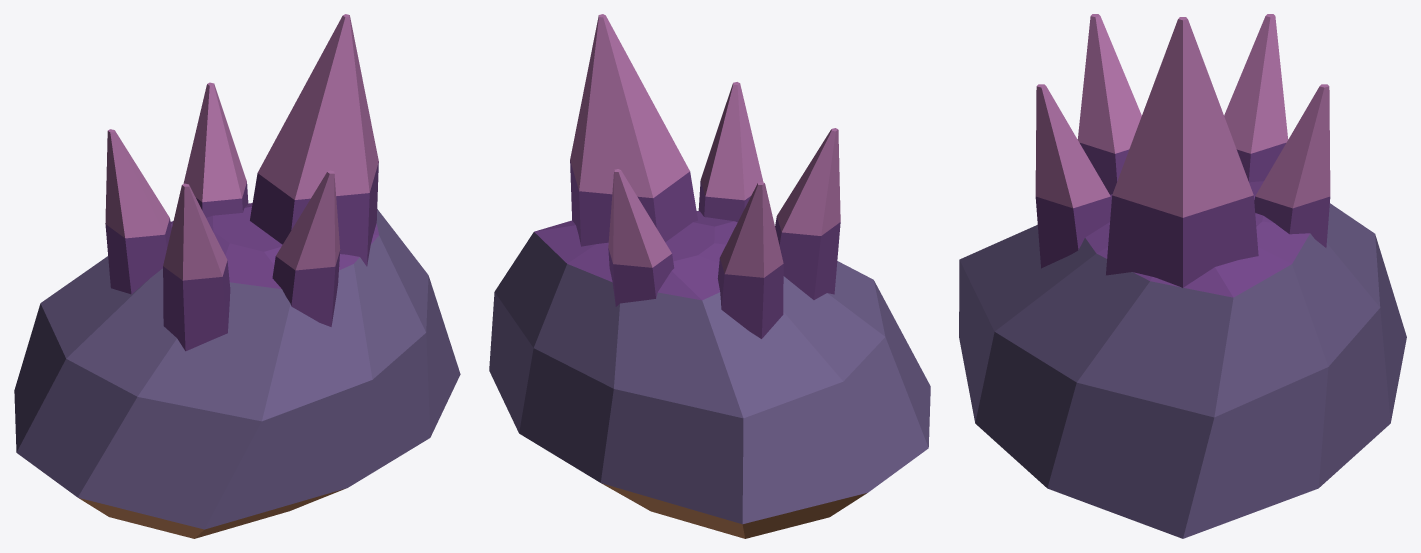
File: nebula-flora.glb
3 renders of one model, left to right at view 1: azimuth 30°, elevation 25°; view 2: azimuth 150°, elevation 25°; view 3: azimuth 270°, elevation 25°, orthographic. The views are drawn at different scales.
Visible parts, largest first — view 1: stone, feature; view 2: stone, feature; view 3: stone, feature.
Part boxes in pixels (x1,y1,x2,y2): stone: (14,203,460,538); feature: (105,14,378,351); stone: (489,211,930,538); feature: (570,14,840,338); stone: (959,181,1406,538); feature: (1035,14,1330,287).
Bounding box in the file's own units: 1.93 × 1.91 × 1.54.
